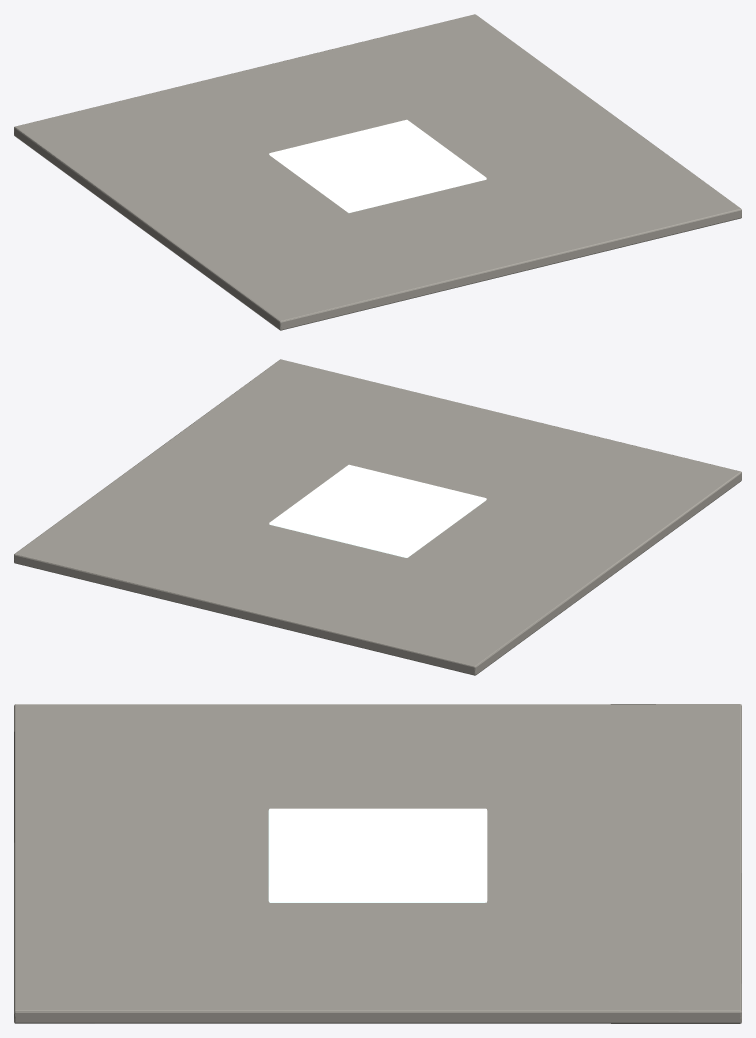
File: SM_Kurpark_Plaza.fbx
The picture shows the model from 3 angles, top to bottom: view 1: azimuth 30°, elevation 25°; view 2: azimuth 150°, elevation 25°; view 3: azimuth 270°, elevation 25°; orthographic projection. The views are drawn at different scales.
Parts seen in each view (by area): view 1: LOD0_SM_Kurpark_Plaza; view 2: LOD0_SM_Kurpark_Plaza, LOD1_SM_Kurpark_Plaza; view 3: LOD0_SM_Kurpark_Plaza, LOD1_SM_Kurpark_Plaza.
Part boxes in pixels (x1,y1,x2,y2): LOD0_SM_Kurpark_Plaza: [14, 14, 741, 330]; LOD0_SM_Kurpark_Plaza: [14, 359, 741, 675]; LOD1_SM_Kurpark_Plaza: [14, 360, 741, 675]; LOD0_SM_Kurpark_Plaza: [14, 704, 741, 1023]; LOD1_SM_Kurpark_Plaza: [14, 704, 741, 1023].
Bounding box in the file's own units: 4 × 0.1 × 4.
